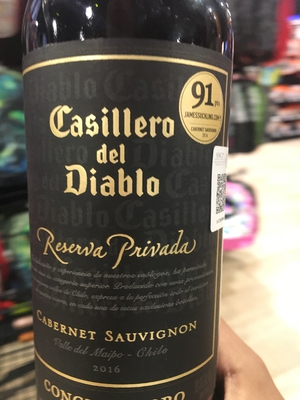casillero del diablo reserva privada cabernet sauvignon: (18, 4, 233, 400)
